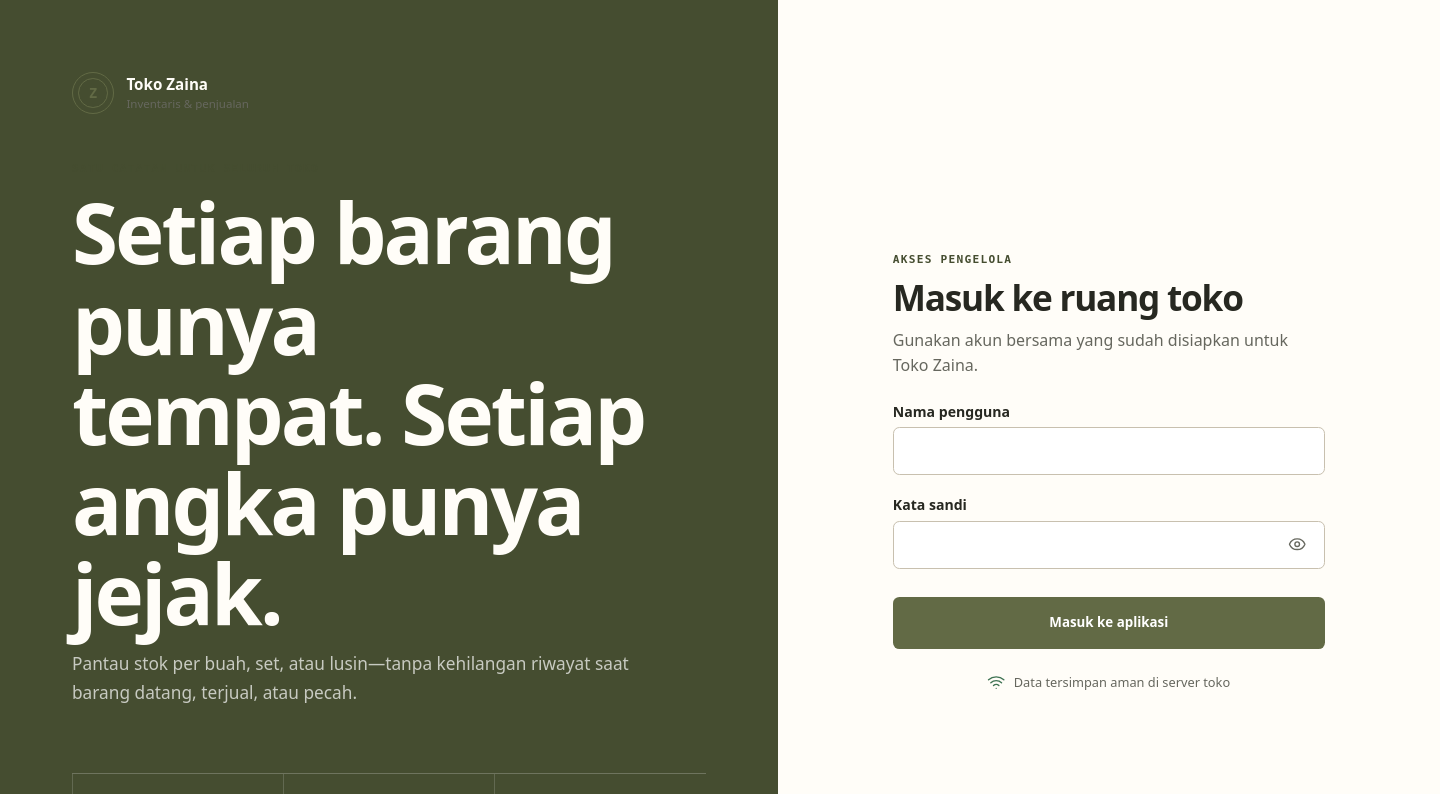
Test: LoginPage › signs in with the shared store account and preserves clear feedback
In the field labelled "Nama pengguna": (1109, 451) [893,427,1325,475], type "toko"
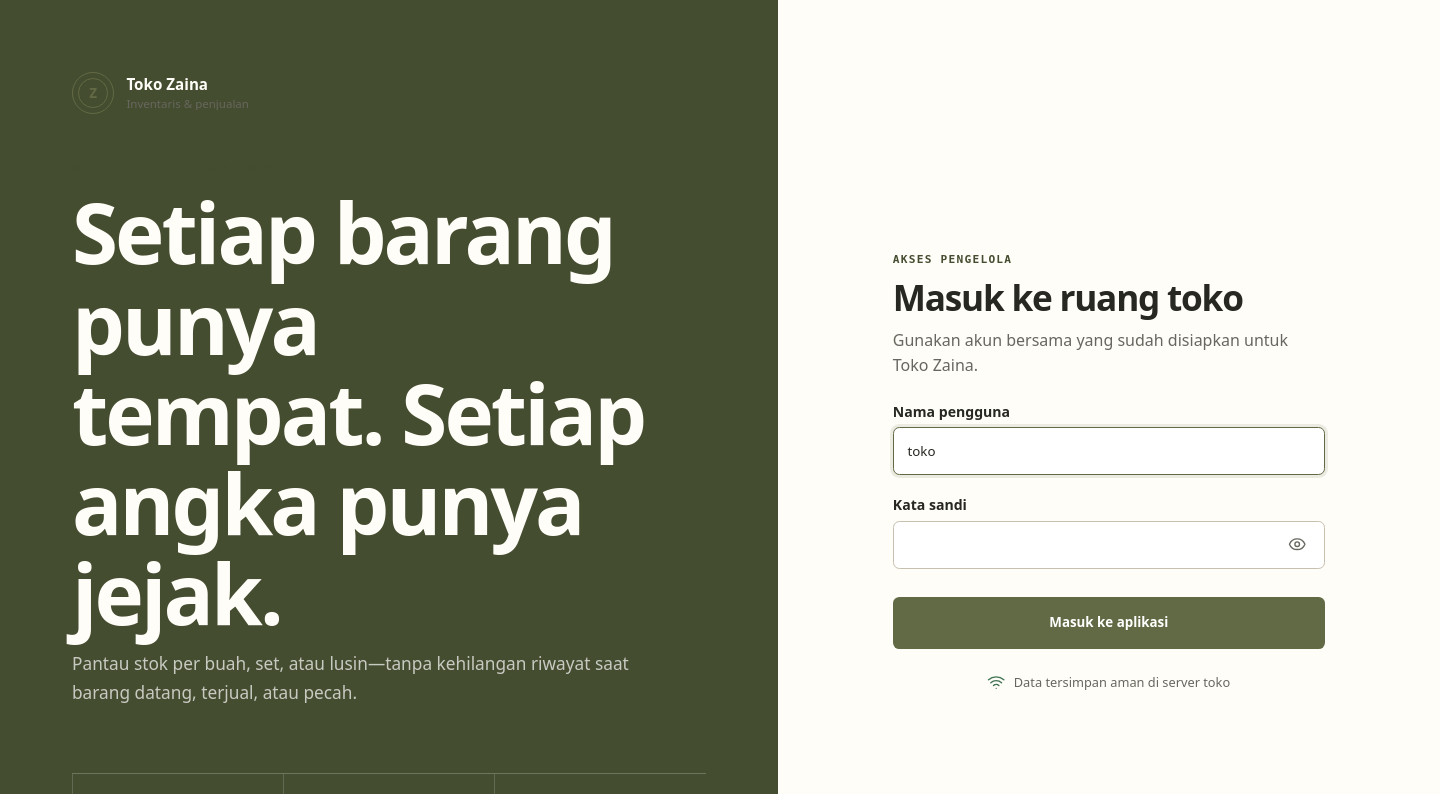
In the password field labelled "Kata sandi": (1109, 545) [893,521,1325,569], type "rahasia-yang-kuat"
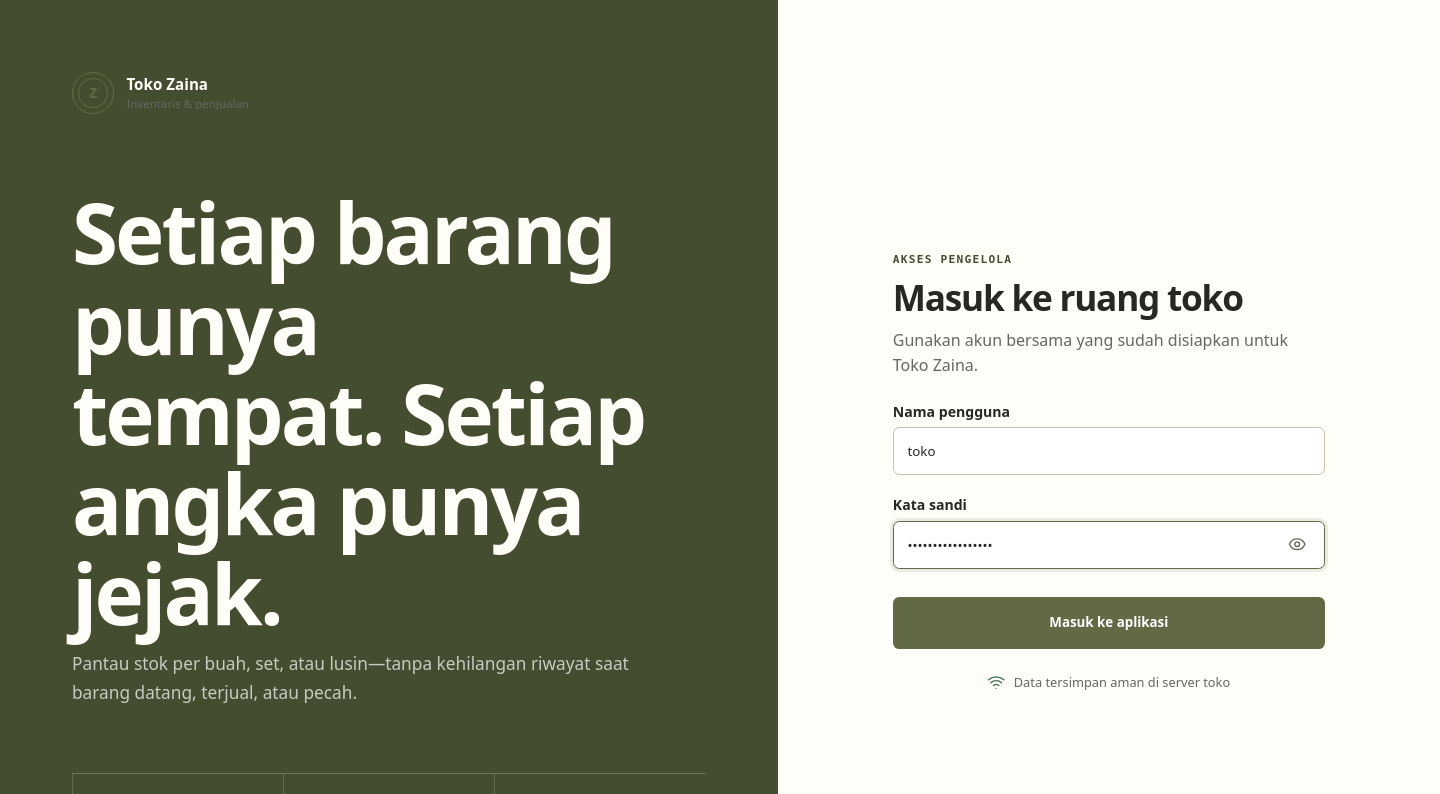
Click the button "Masuk ke aplikasi": (1109, 623) [893,597,1325,649]
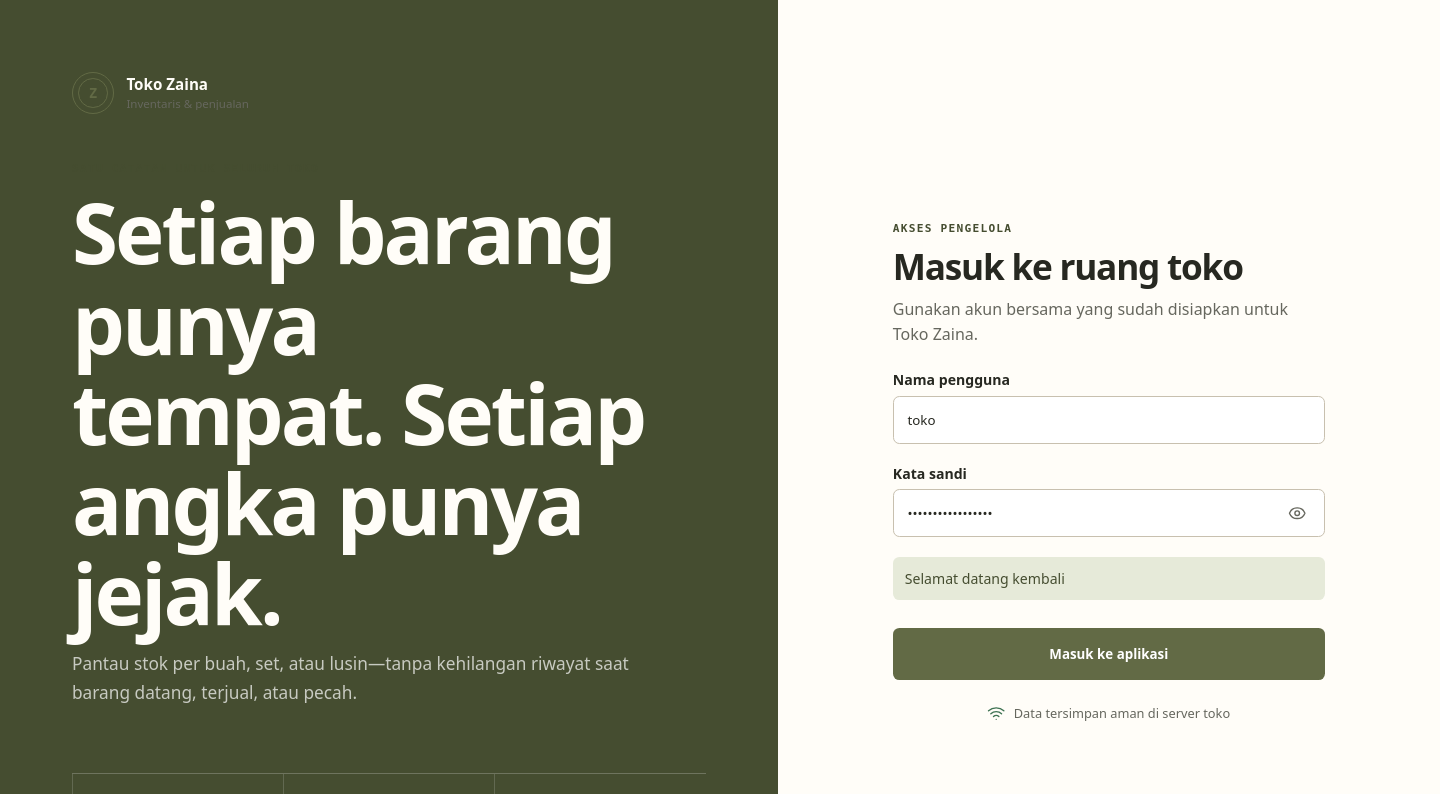
Check: the text "Selamat datang kembali" is shown, box [893,557,1325,600]
